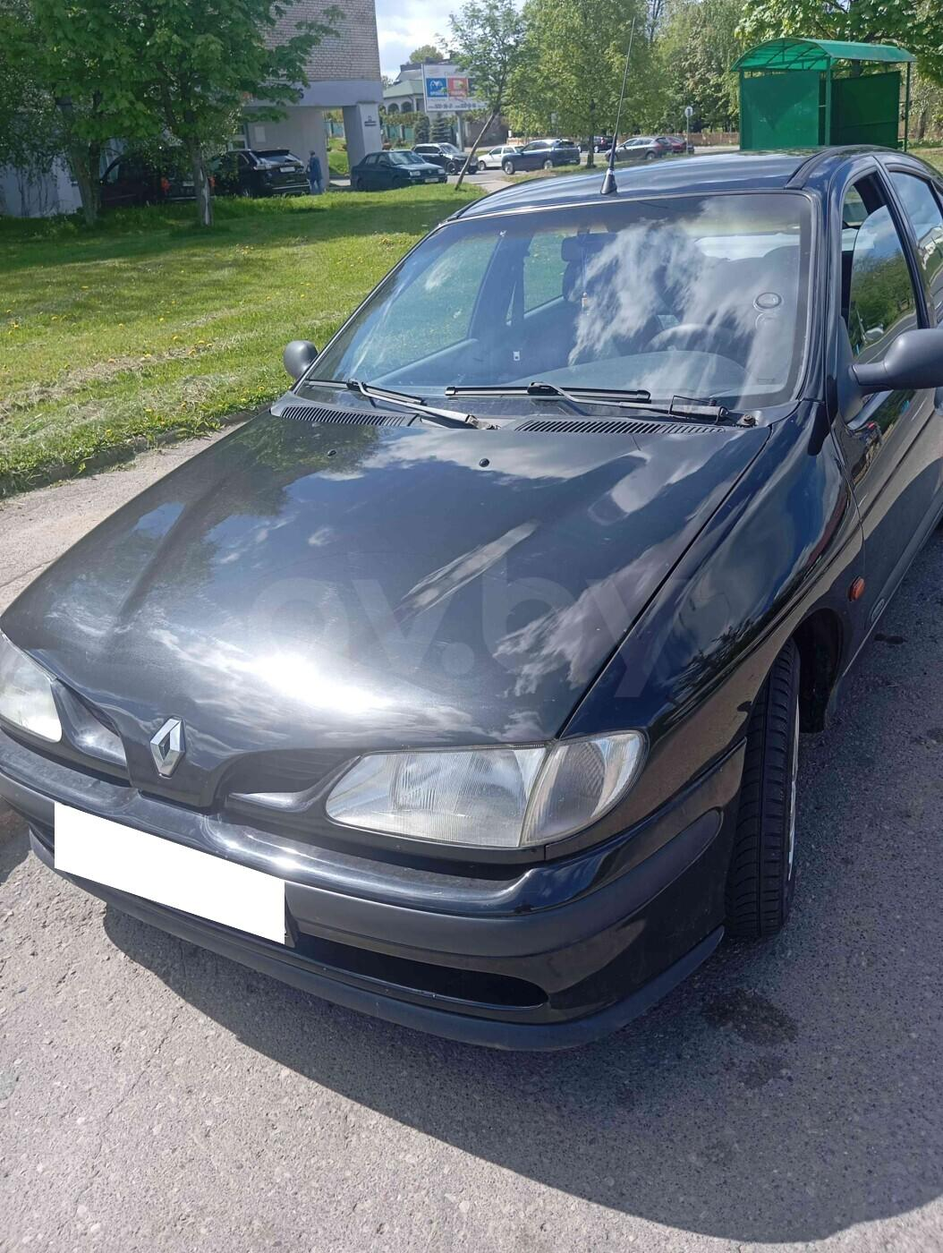Megane_1995-1999: (0, 136, 943, 1054)
